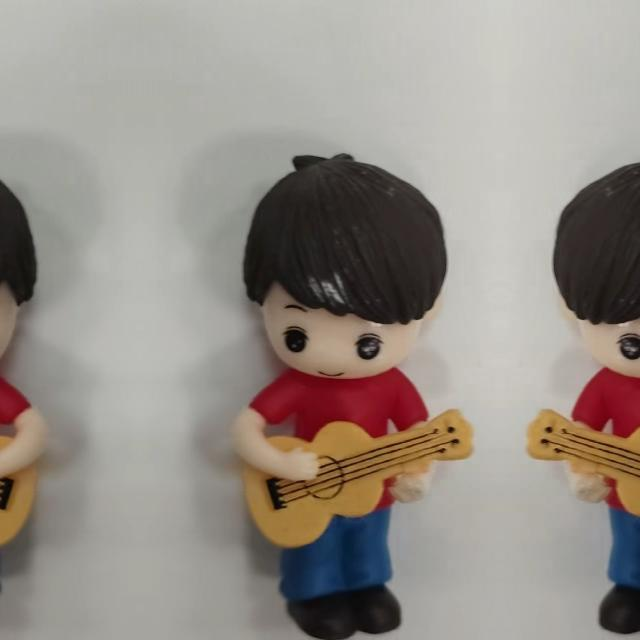man cloth: (248, 368, 440, 522), (560, 367, 640, 522), (0, 367, 32, 522)
man head: (227, 140, 453, 382), (547, 139, 640, 382), (0, 139, 53, 382)
trousers: (273, 502, 407, 638), (593, 502, 640, 637), (0, 502, 7, 637)
